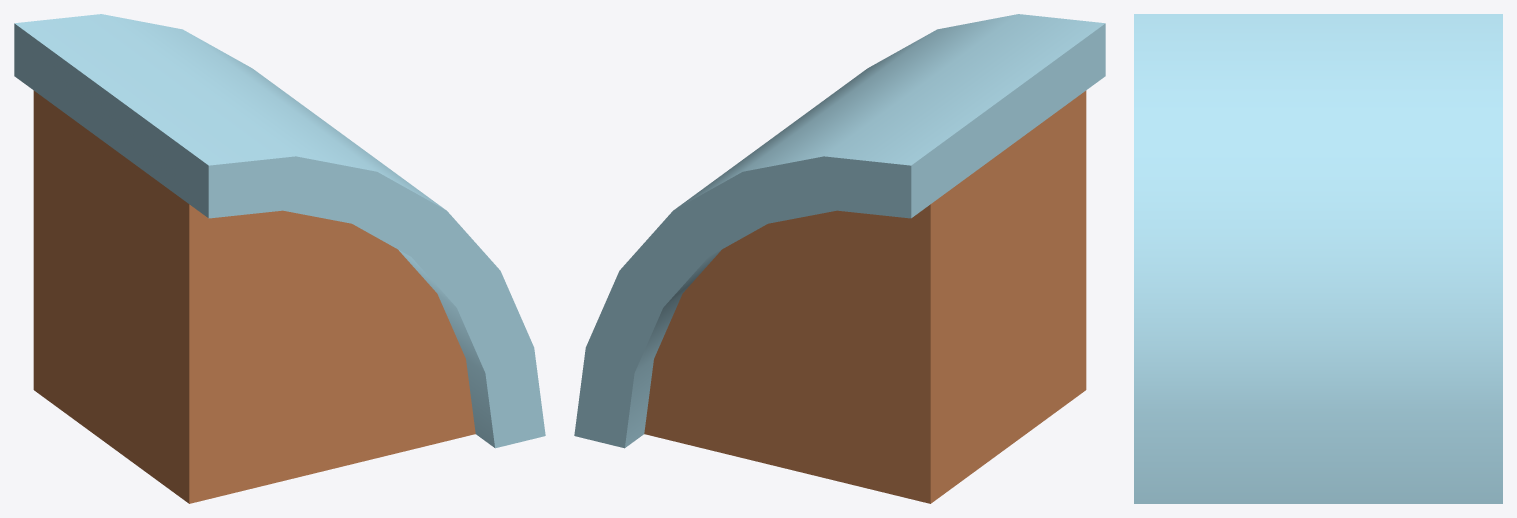
The model's file is blockSnowCurveHalf.glb.
The picture shows the model from 3 angles, left to right: view 1: azimuth 30°, elevation 25°; view 2: azimuth 150°, elevation 25°; view 3: azimuth 270°, elevation 25°; orthographic projection. The views are drawn at different scales.
Parts seen in each view (by area): view 1: blockSnowCurveHalf; view 2: blockSnowCurveHalf; view 3: blockSnowCurveHalf.
Part boxes in pixels (x1,y1,x2,y2): blockSnowCurveHalf: (14, 14, 545, 503); blockSnowCurveHalf: (574, 14, 1105, 503); blockSnowCurveHalf: (1134, 14, 1502, 503).
Size of the model in its own units: 1 by 1 by 1.
